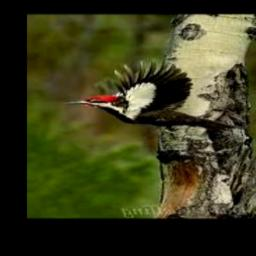Woodpecker: (63, 60, 242, 133)
